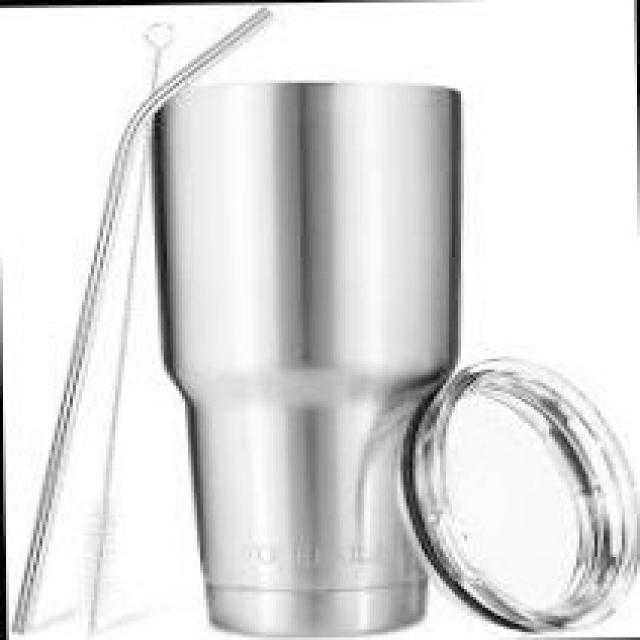bottle: (140, 37, 482, 640)
